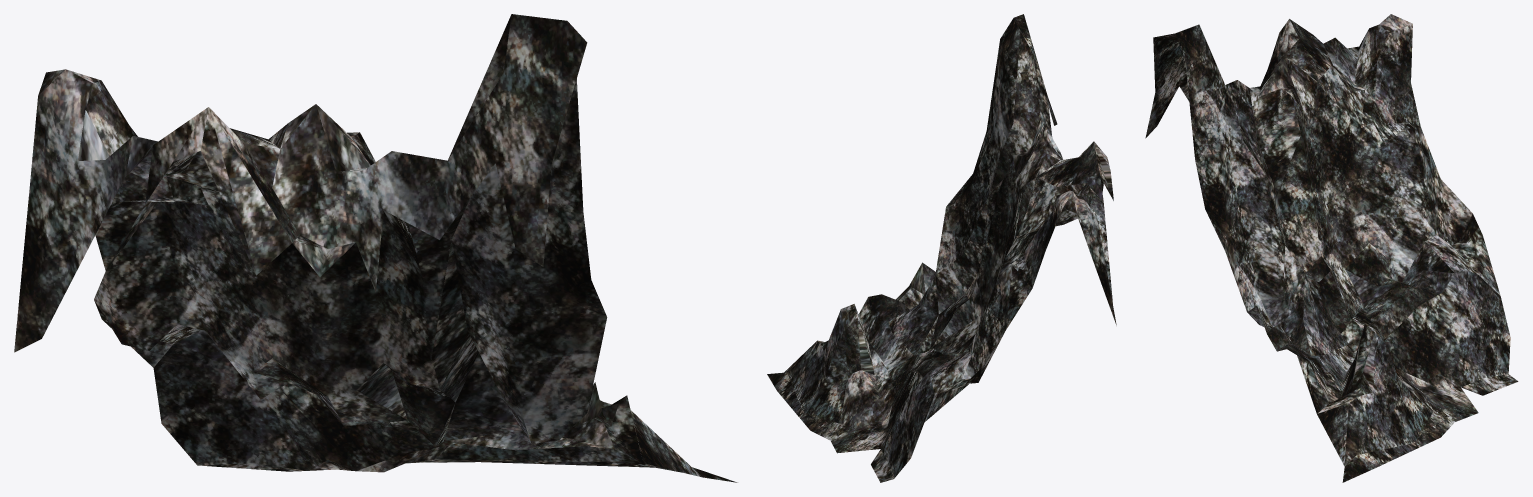
File: OVERHILL_A_01_MOUN1_OBJECT148.fbx
3 views of the same model, side by side, from view 1: azimuth 30°, elevation 25°; view 2: azimuth 150°, elevation 25°; view 3: azimuth 270°, elevation 25° (orthographic). The views are drawn at different scales.
Visible parts, largest first — view 1: OVERHILL_A_01_MOUN1_OBJECT148; view 2: OVERHILL_A_01_MOUN1_OBJECT148; view 3: OVERHILL_A_01_MOUN1_OBJECT148.
Boxes of the visible parts, x1,y1,x2,y2 form: OVERHILL_A_01_MOUN1_OBJECT148: (14,14,737,482); OVERHILL_A_01_MOUN1_OBJECT148: (767,14,1116,482); OVERHILL_A_01_MOUN1_OBJECT148: (1145,14,1518,482).
Size of the model in its own units: 378617 by 338630 by 315381.
Materials: 1 (1 with a texture image).
